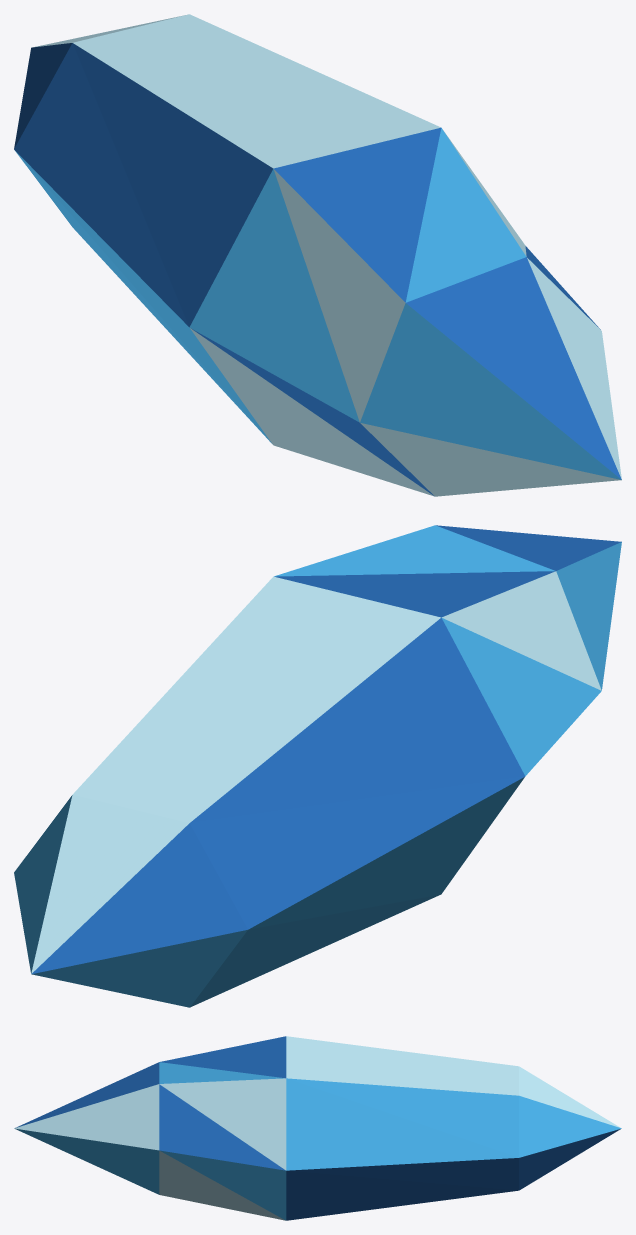
The model's file is crystal_projectile.obj.
3 views of the same model, one above another, from view 1: azimuth 30°, elevation 25°; view 2: azimuth 150°, elevation 25°; view 3: azimuth 270°, elevation 25° (orthographic). The views are drawn at different scales.
Parts seen in each view (by area): view 1: 00_crystal_projectile; view 2: 00_crystal_projectile; view 3: 00_crystal_projectile.
Boxes of the visible parts, x1,y1,x2,y2 form: 00_crystal_projectile: [14, 14, 621, 496]; 00_crystal_projectile: [14, 525, 621, 1007]; 00_crystal_projectile: [14, 1036, 621, 1220].
Size of the model in its own units: 0.066 by 0.052 by 0.201.
